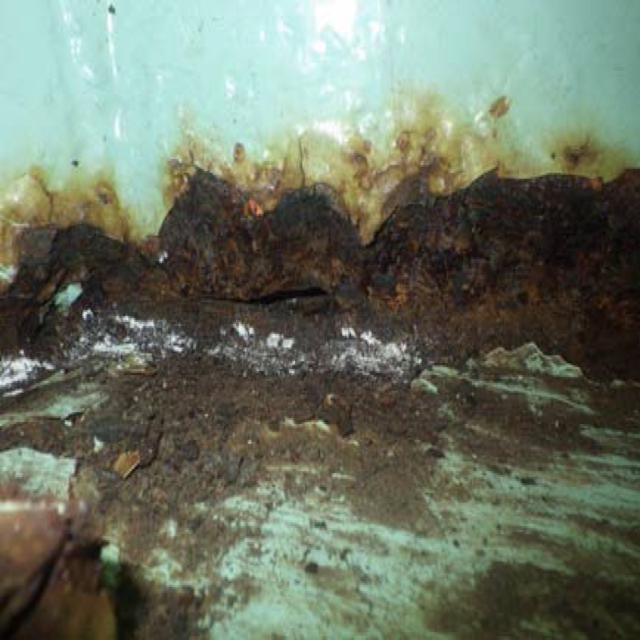corrosion: (10, 149, 640, 547)
